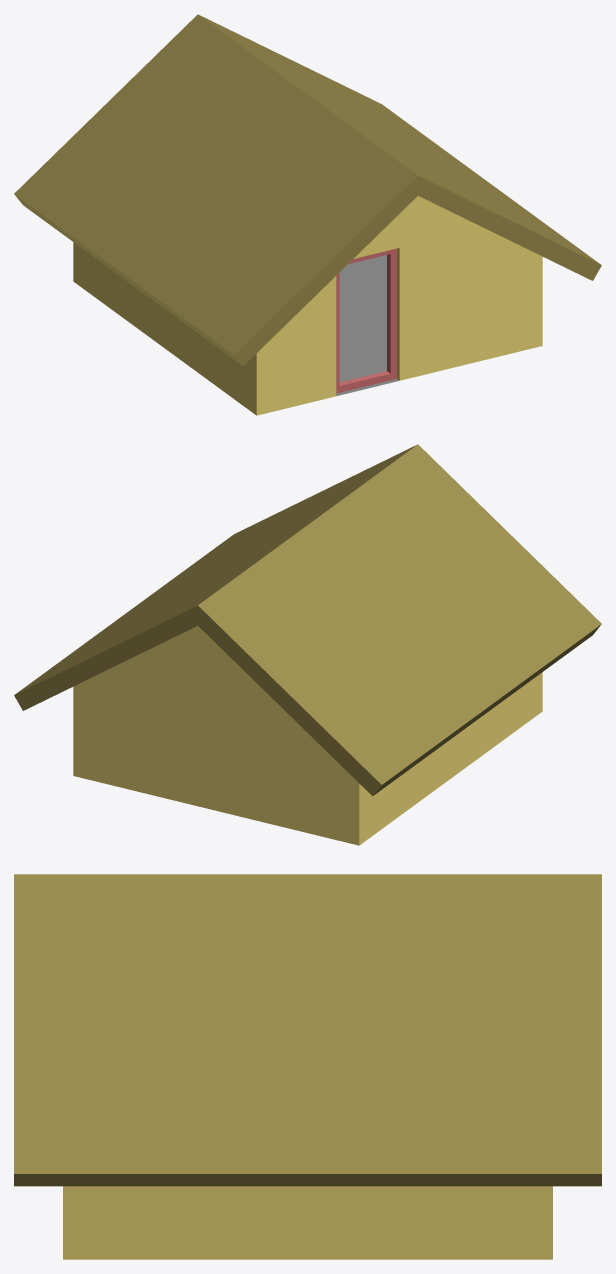
Rendered from result.glb.
3 renders of one model, top to bottom at view 1: azimuth 30°, elevation 25°; view 2: azimuth 150°, elevation 25°; view 3: azimuth 270°, elevation 25°, orthographic. The views are drawn at different scales.
Parts seen in each view (by area): view 1: 96aaad42-eeda-4507-b90a-30f82b74d7c5__undefined (×2), 8d486e54-af41-47c4-8ad7-23f95d00e350__undefined, f07403f7-6d8c-4cc8-922a-837ee58b542c__Plane_4, f0e096d5-a7a7-4ba7-89dd-2bd4d624b264__Box; view 2: 96aaad42-eeda-4507-b90a-30f82b74d7c5__undefined (×2), 8d486e54-af41-47c4-8ad7-23f95d00e350__undefined; view 3: 96aaad42-eeda-4507-b90a-30f82b74d7c5__undefined, 8d486e54-af41-47c4-8ad7-23f95d00e350__undefined.
Part boxes in pixels (x1,y1,x2,y2): 96aaad42-eeda-4507-b90a-30f82b74d7c5__undefined (×2): [14, 14, 601, 366]; 8d486e54-af41-47c4-8ad7-23f95d00e350__undefined: [73, 196, 542, 415]; f07403f7-6d8c-4cc8-922a-837ee58b542c__Plane_4: [336, 255, 399, 396]; f0e096d5-a7a7-4ba7-89dd-2bd4d624b264__Box: [336, 248, 396, 393]; 96aaad42-eeda-4507-b90a-30f82b74d7c5__undefined (×2): [14, 444, 601, 796]; 8d486e54-af41-47c4-8ad7-23f95d00e350__undefined: [73, 626, 542, 845]; 96aaad42-eeda-4507-b90a-30f82b74d7c5__undefined: [14, 874, 601, 1186]; 8d486e54-af41-47c4-8ad7-23f95d00e350__undefined: [63, 1186, 552, 1259].
Size of the model in its own units: 579 by 329 by 600.
